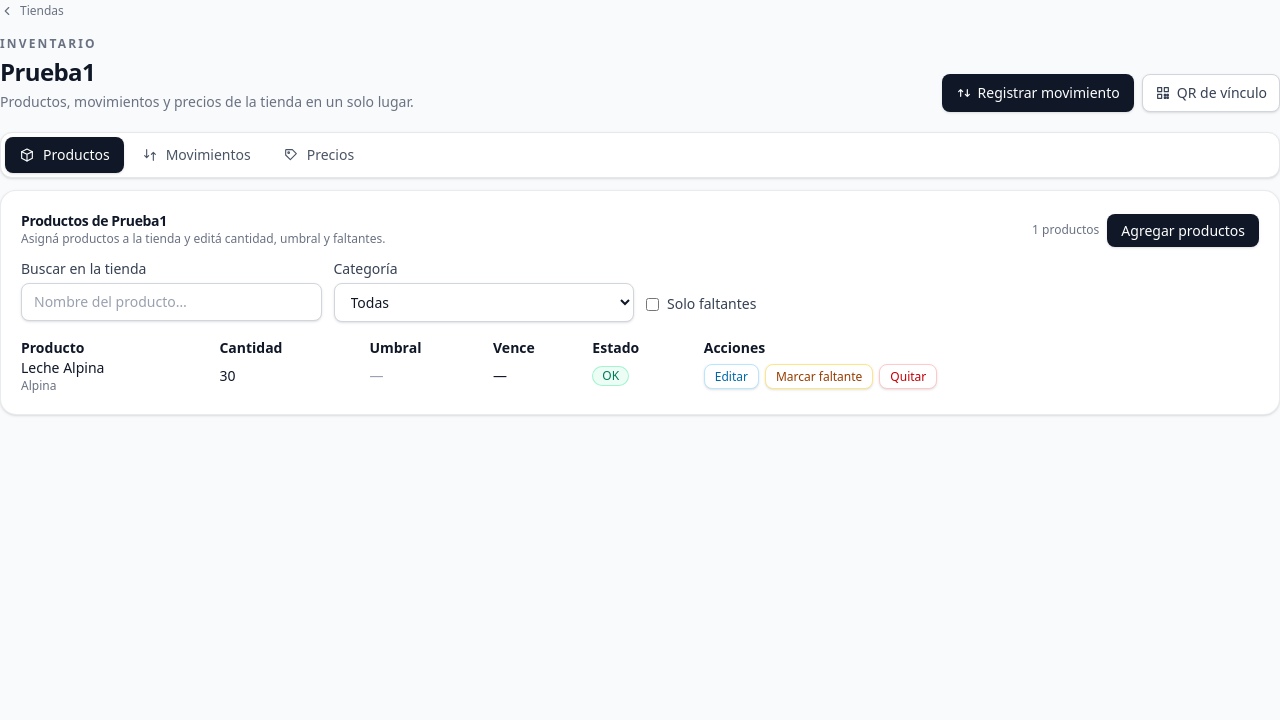
Test: 0030 · el prellenado refleja el precio recién editado › salida: usa el precio de venta actualizado en la relación
The width and height of the screenshot is (1280, 720).
Expected: the text "Leche Alpina" is shown, [21,358,104,377]
Click the button "Editar" at (731, 376), box [704,364,759,388]
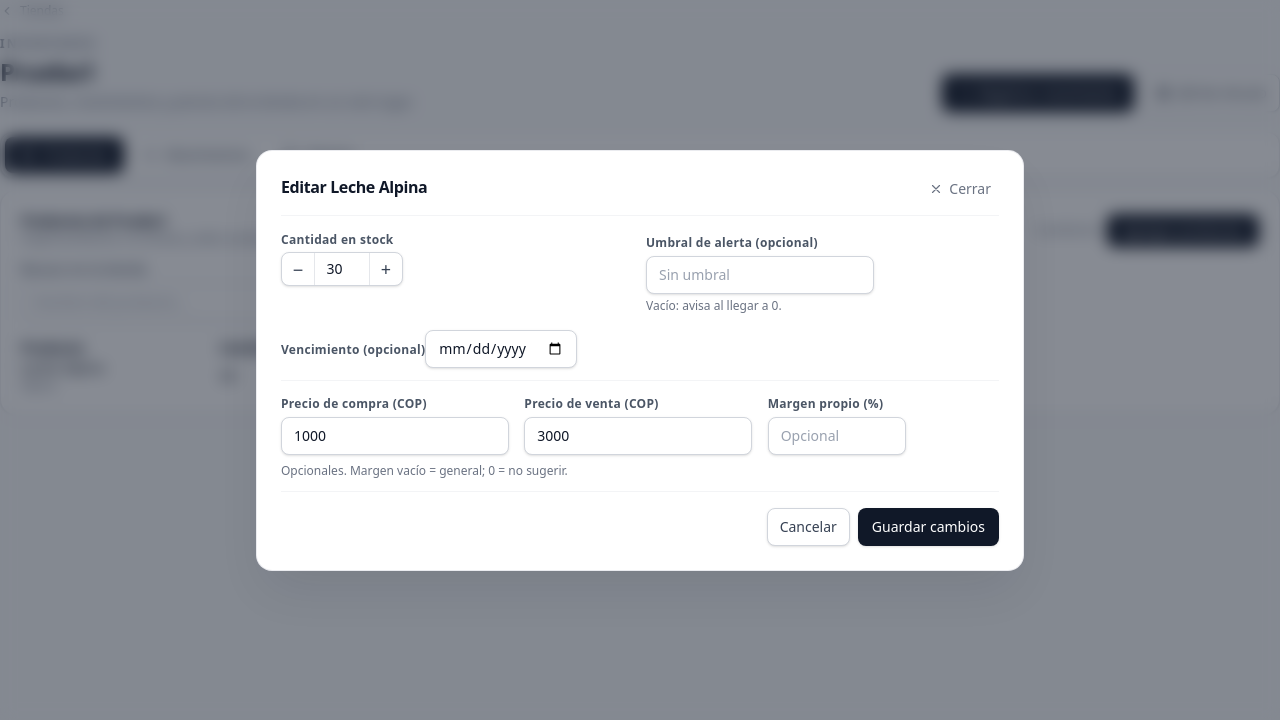
Now the number field labelled "Precio de venta (COP)" holds "3000"
Replace the text in the number field labelled "Precio de venta (COP)" with "4000" at (638, 436), box [524,416,752,454]
Click the button "Guardar cambios" at (928, 526), box [858,508,999,546]
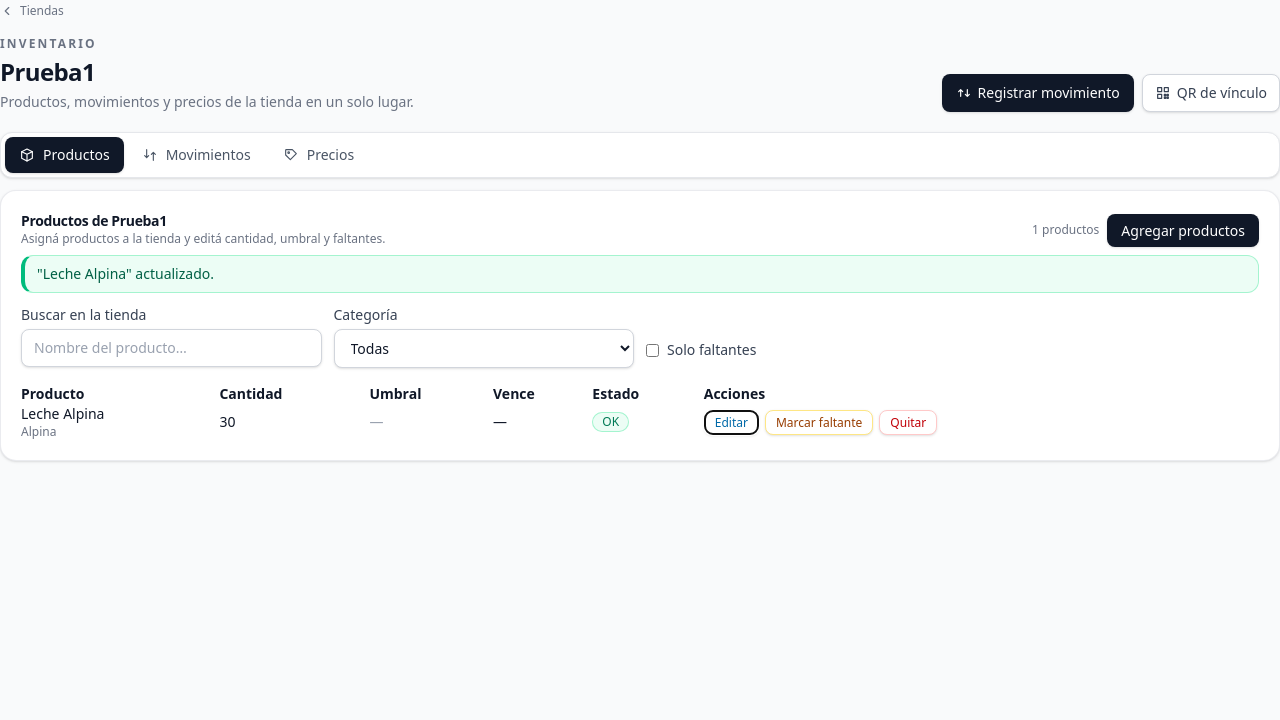
Click the tab "Movimientos" at (196, 155), box [128,137,265,173]
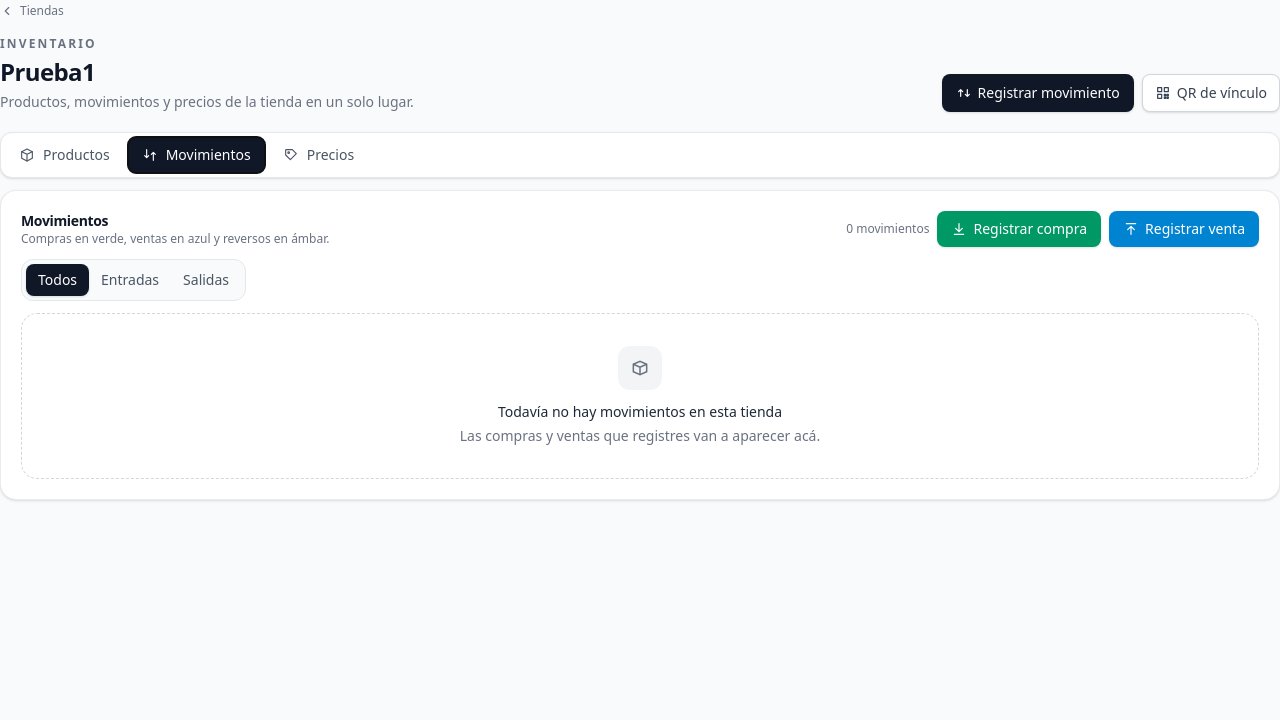
Click the button "Registrar venta" at (1184, 229), box [1109,211,1259,247]
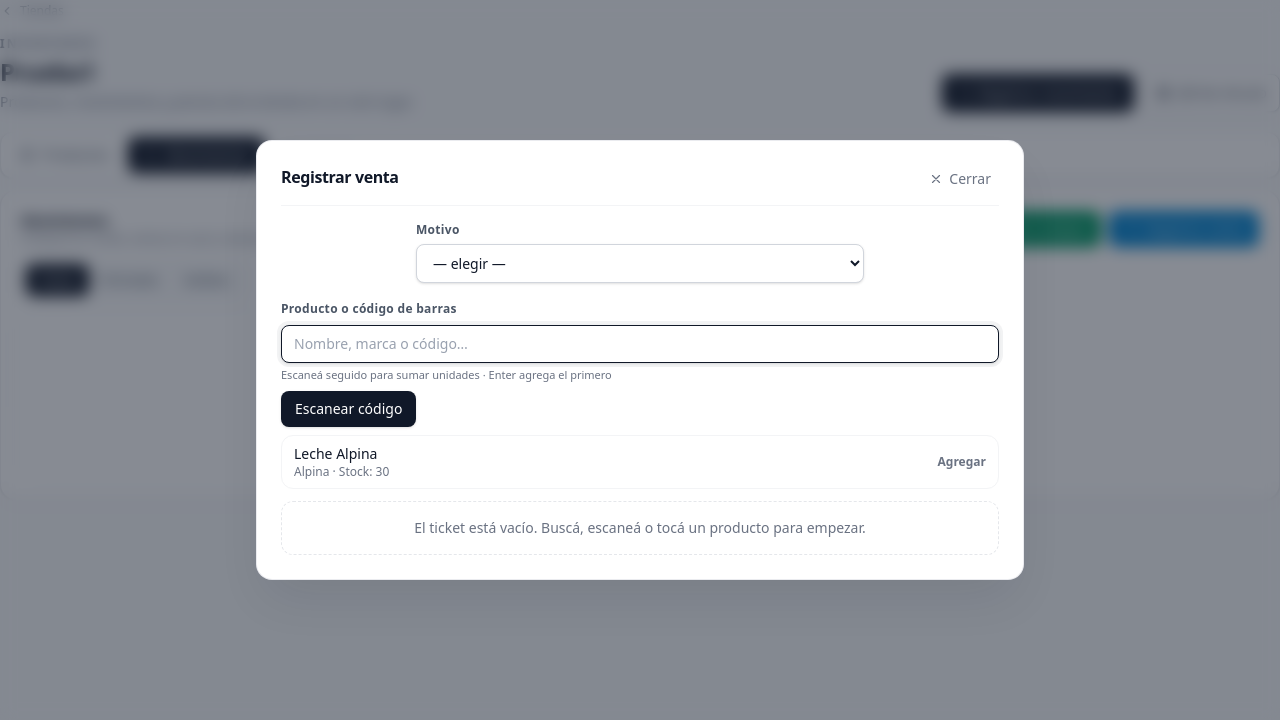
Type "leche" into the search field named "Buscar producto o código" at (640, 344), box [281,325,999,363]
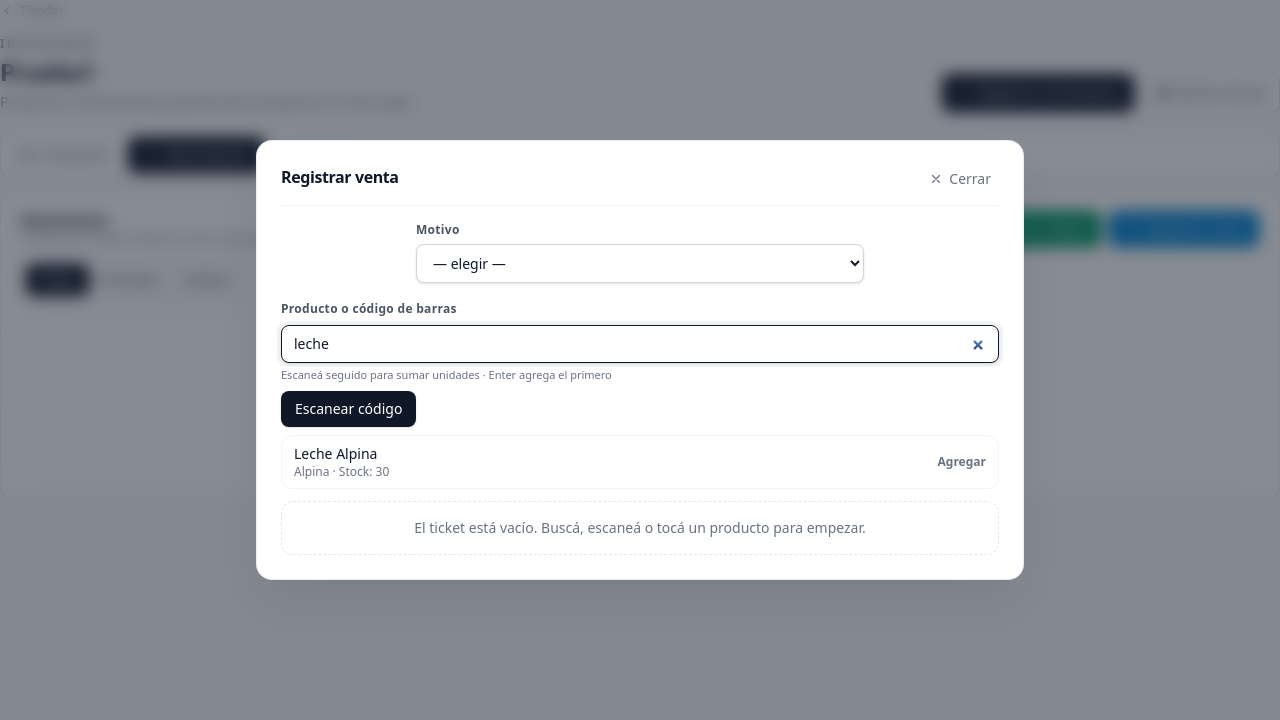
Click the button "Leche Alpina Alpina · Stock: 30 Agregar" at (336, 454), box [282,436,998,488]
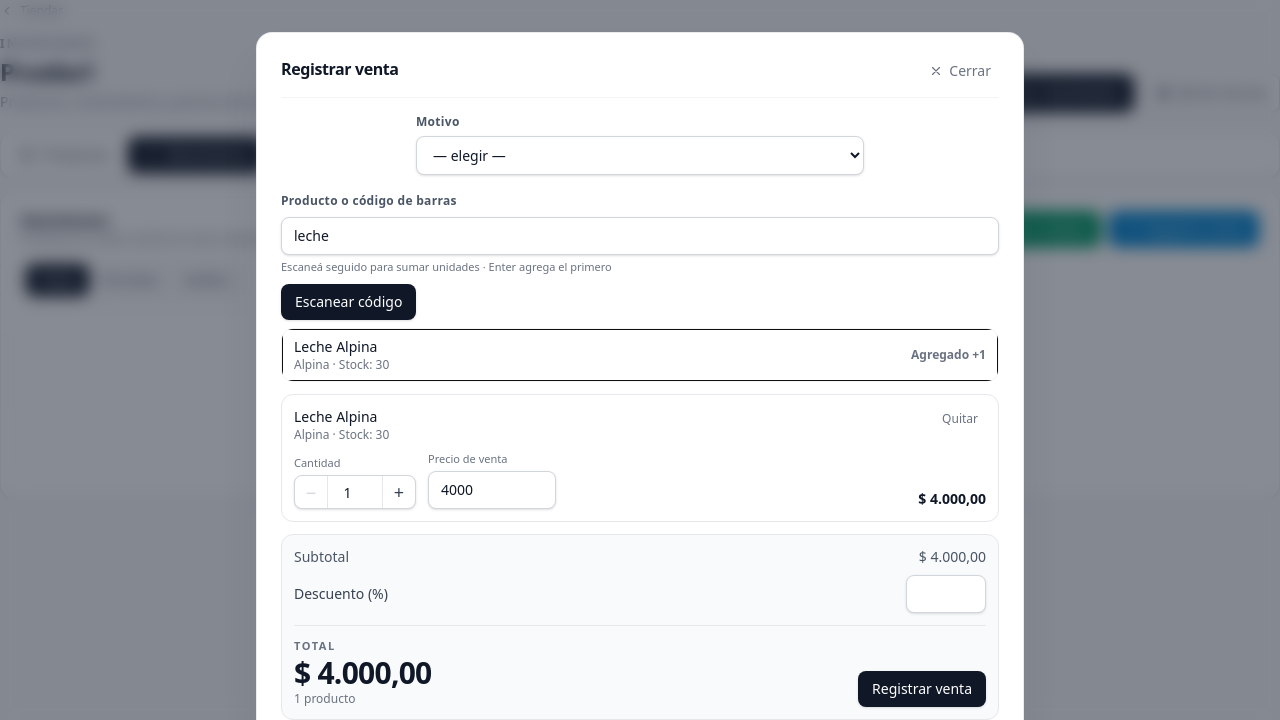
Now the number field named "Precio de venta de Leche Alpina" holds "4000", box [428,471,556,509]
